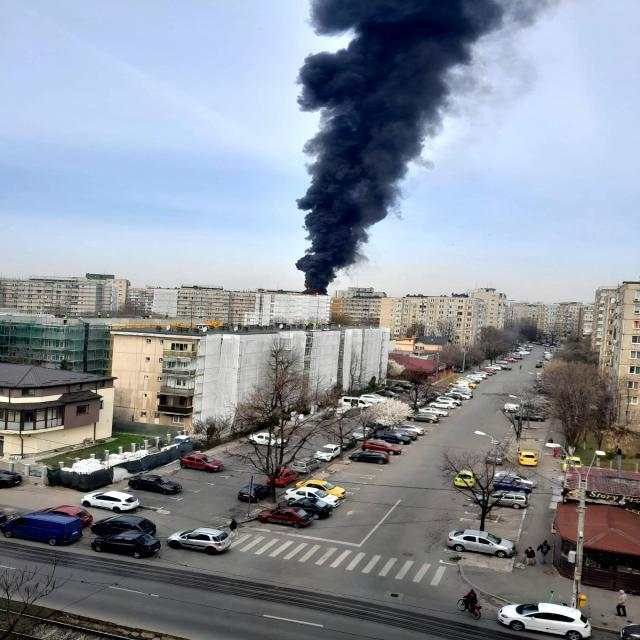Smoke: (291, 0, 508, 289)
